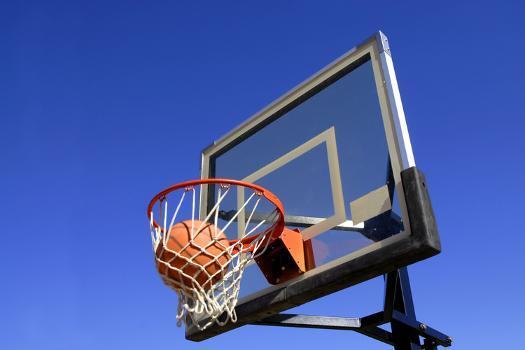MadeBasket: (148, 178, 284, 331)
